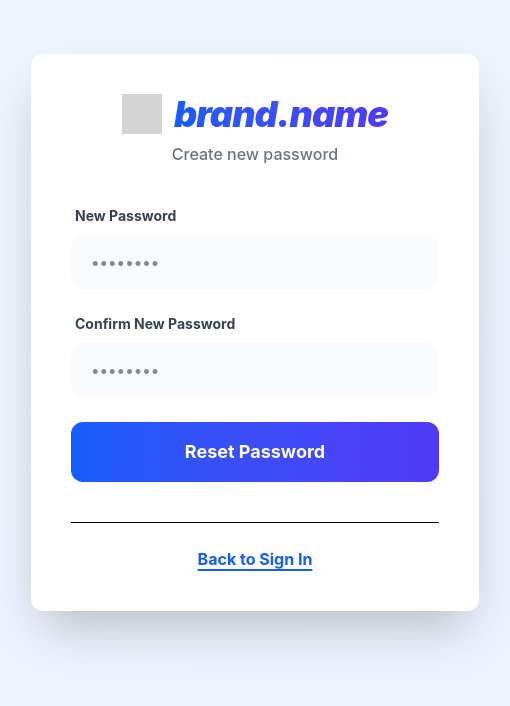
Test: ResetPassword Page › validates minimum password length
This screenshot has width=510, height=706.
Type "123" into the 1st password field with placeholder "••••••••" at {"x": 255, "y": 262}, box [71, 234, 439, 290]
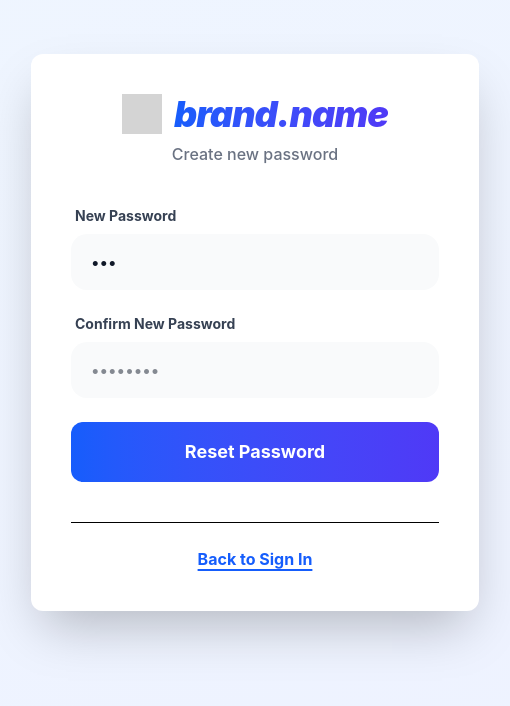
Type "123" into the password field with placeholder "••••••••" at {"x": 255, "y": 370}, box [71, 342, 439, 398]
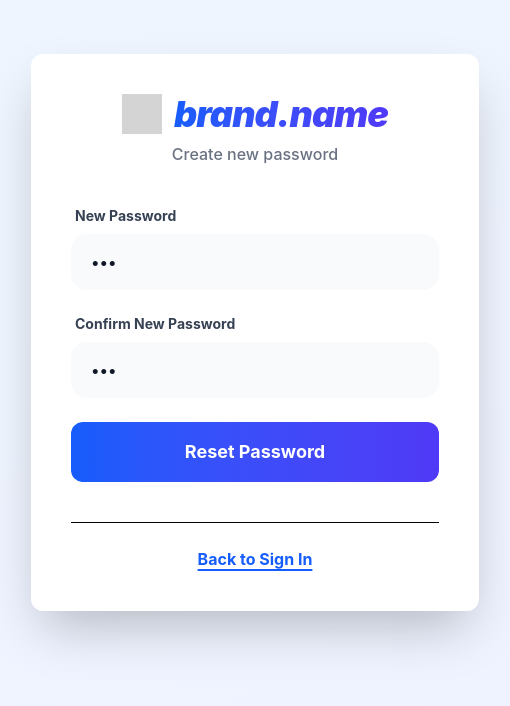
Click the button "Reset Password" at {"x": 255, "y": 452}, box [71, 422, 439, 482]
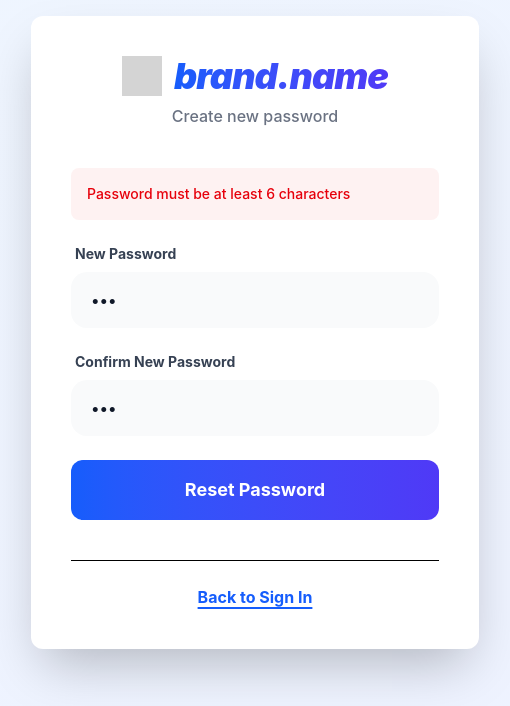
Now the text "Password must be at least 6 characters" is shown, box [71, 168, 439, 220]
